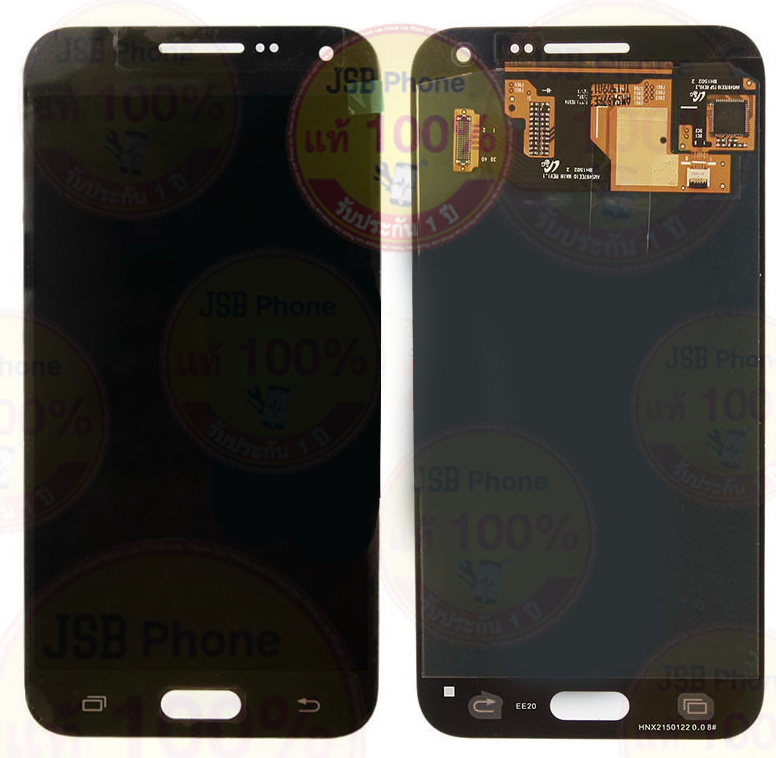Phone: (18, 23, 383, 743), (406, 21, 768, 745)
